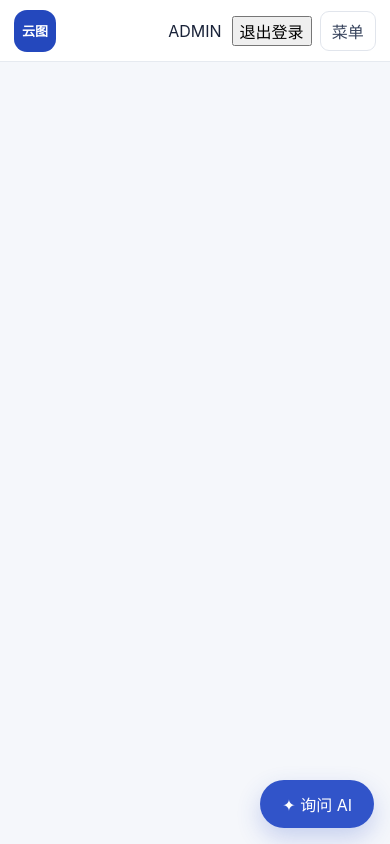
Test: AppShell notification Banner and logout behavior › offers a keyboard-operable collapsed navigation control for long role menus
Click the button with test id "mobile-nav-toggle".
click(348, 30)  # box [320,10,376,50]
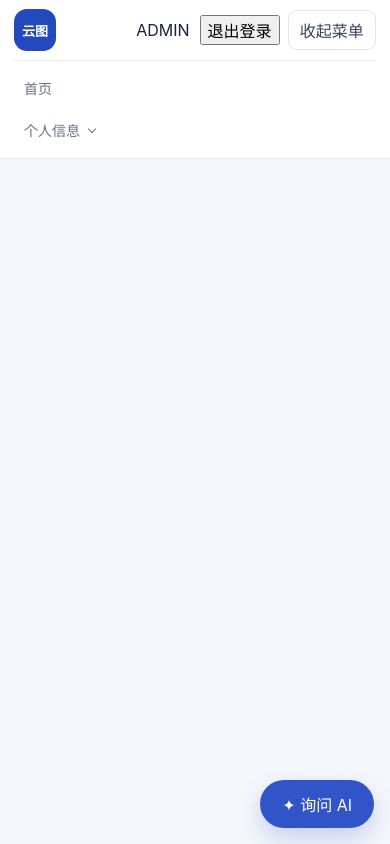
Result: the button with test id "mobile-nav-toggle" is expanded at [288,10,376,50]
Click the navigation bar with test id "app-nav".
click(195, 104)  # box [14,60,376,149]
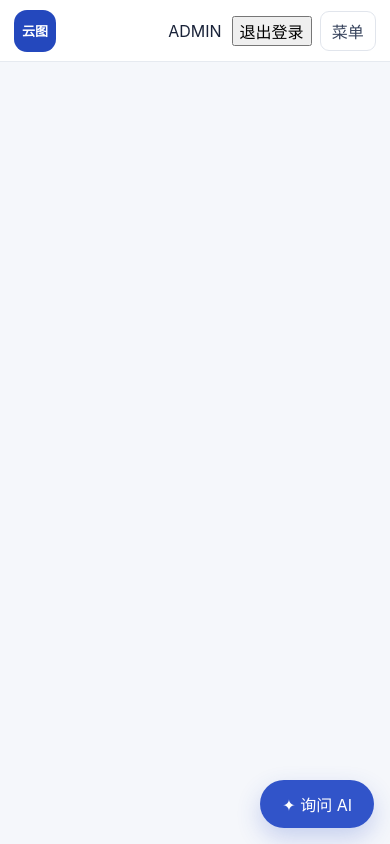
Result: the button with test id "mobile-nav-toggle" is collapsed at [320,10,376,50]
